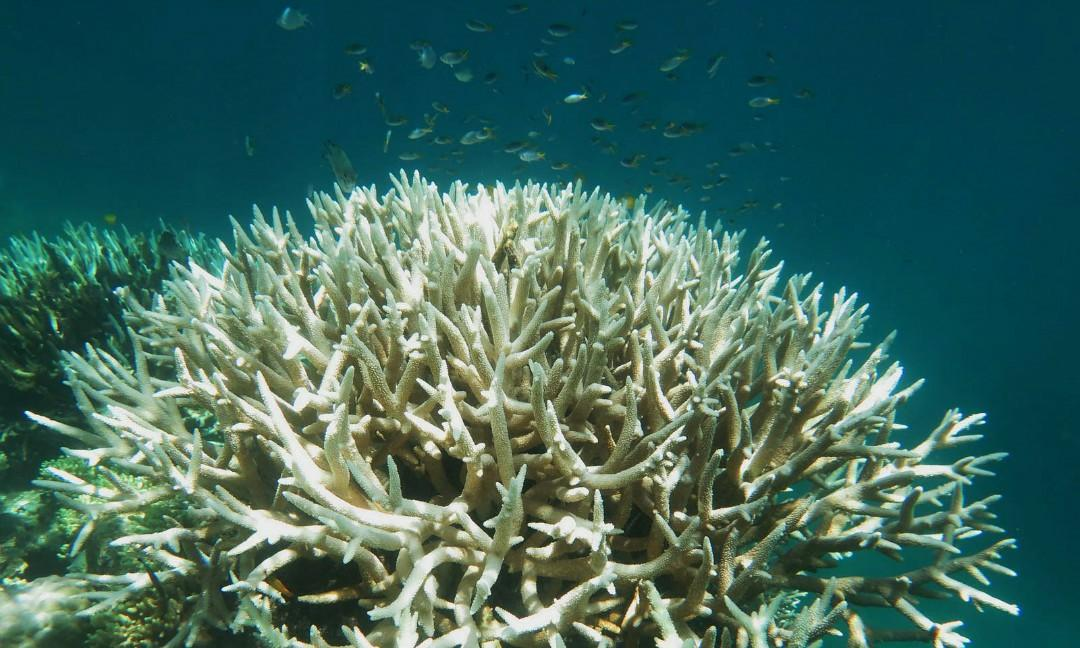bleached_corals: (43, 174, 1017, 646)
